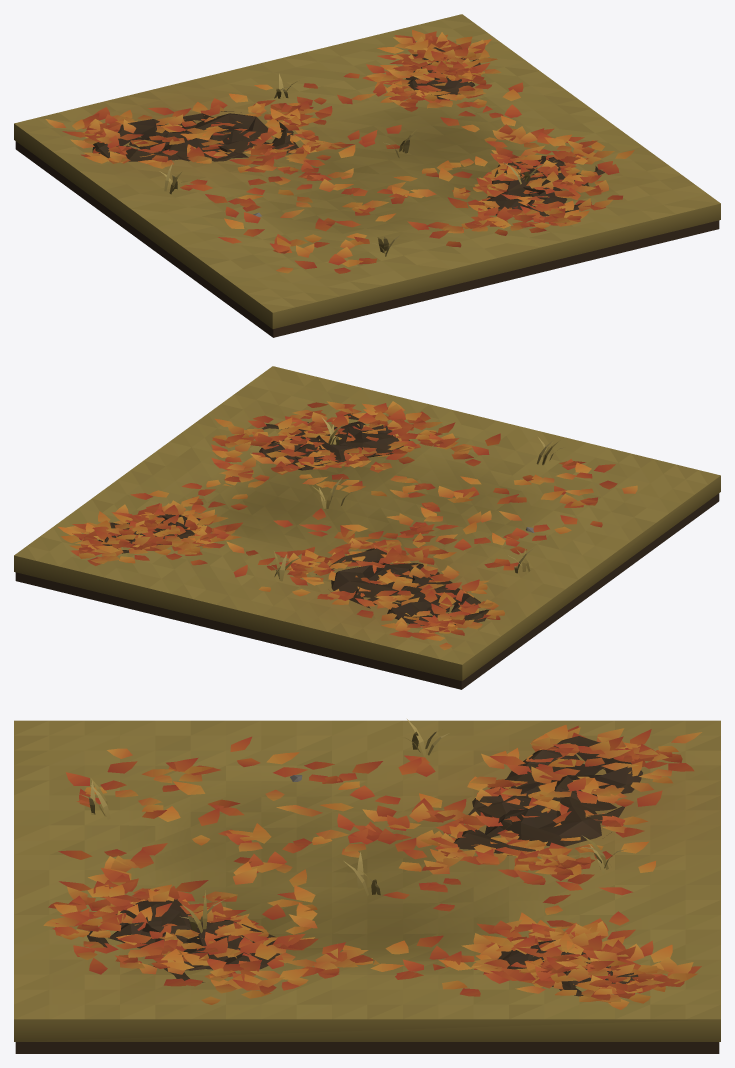
File: autumn-leaf-lawn-tile-01.glb
3 views of the same model, one above another, from view 1: azimuth 30°, elevation 25°; view 2: azimuth 150°, elevation 25°; view 3: azimuth 270°, elevation 25° (orthographic). The views are drawn at different scales.
Parts seen in each view (by area): view 1: autumn_leaf_lawn_tile_01; view 2: autumn_leaf_lawn_tile_01; view 3: autumn_leaf_lawn_tile_01.
Boxes of the visible parts, left/top/right/bottom form: autumn_leaf_lawn_tile_01: left=14, top=14, right=720, bottom=337; autumn_leaf_lawn_tile_01: left=14, top=366, right=720, bottom=689; autumn_leaf_lawn_tile_01: left=14, top=719, right=720, bottom=1053.
Bounding box in the file's own units: 4 × 0.4282 × 4.
